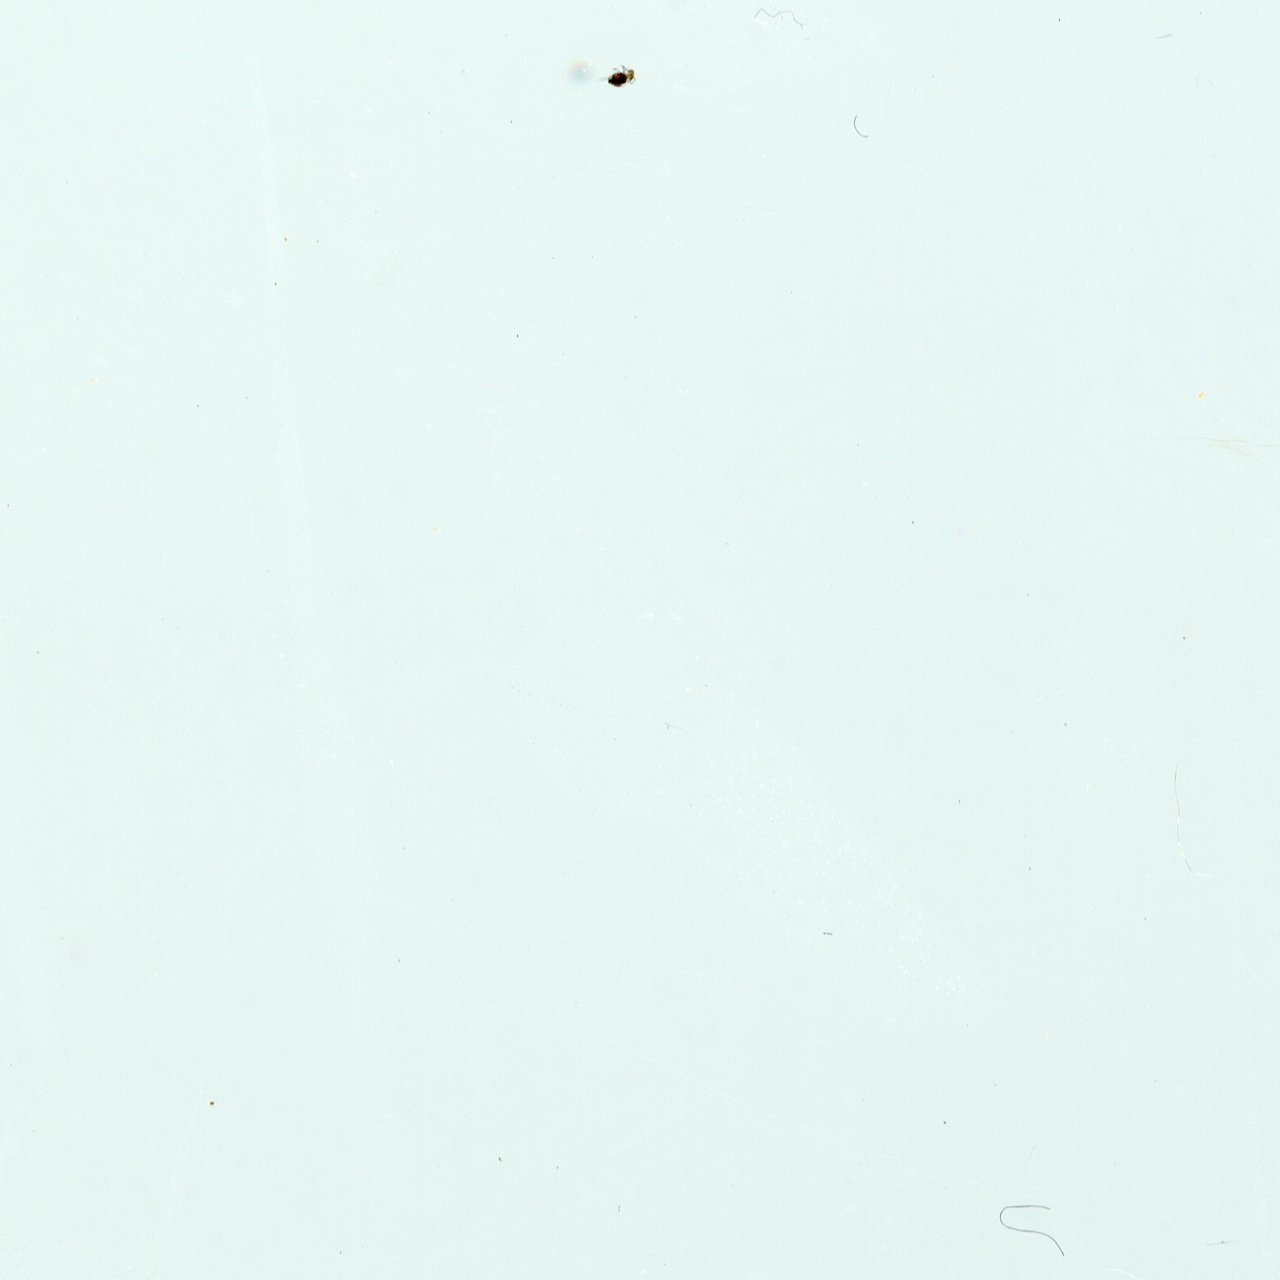arthropod: (594, 60, 641, 95)
